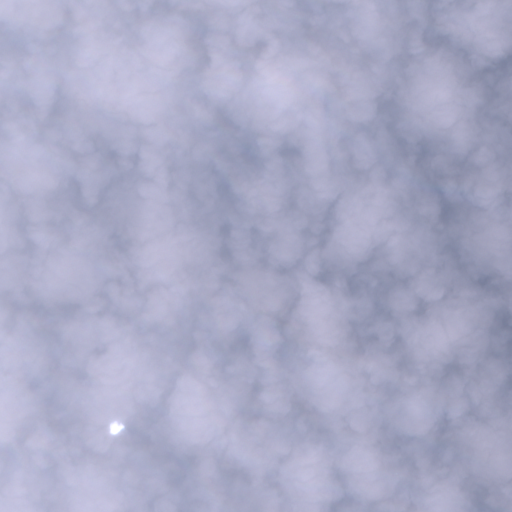Iceberg: (110, 421, 124, 434)
